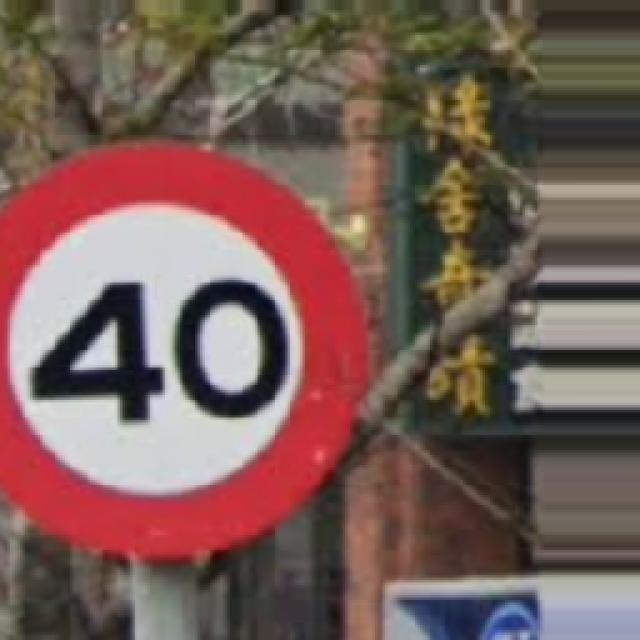Speed Limit -40-: (0, 142, 368, 558)
